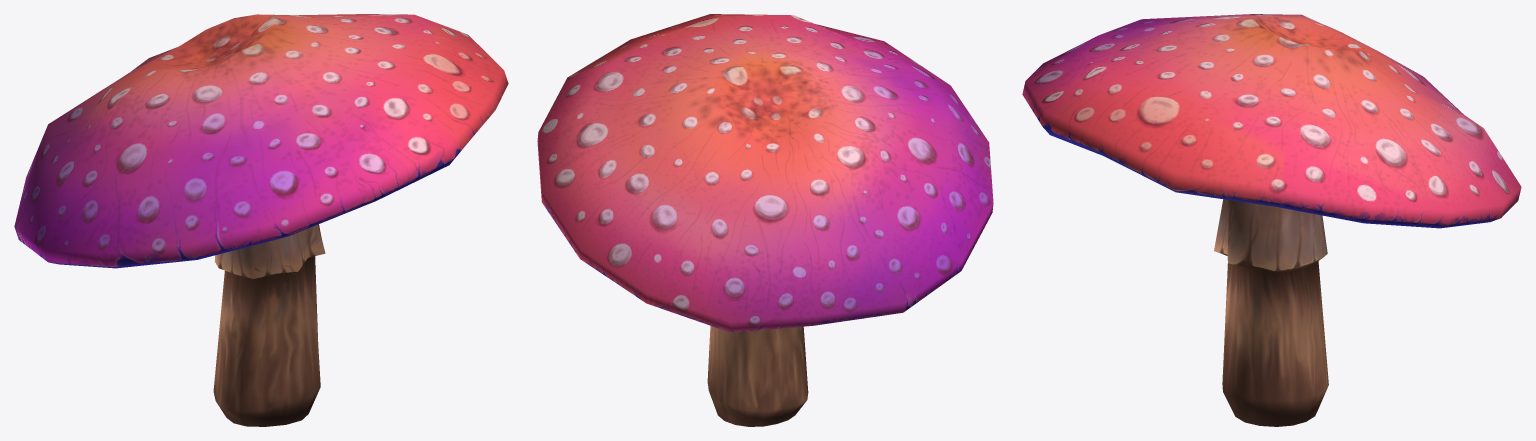
File: firefly.glb
3 renders of one model, left to right at view 1: azimuth 30°, elevation 25°; view 2: azimuth 150°, elevation 25°; view 3: azimuth 270°, elevation 25°, orthographic. The views are drawn at different scales.
Visible parts, largest first — view 1: Circle_0; view 2: Circle_0; view 3: Circle_0.
Boxes of the visible parts, x1,y1,x2,y2 form: Circle_0: (14,14,508,426); Circle_0: (537,14,993,426); Circle_0: (1022,14,1521,426).
Size of the model in its own units: 8.21 by 6.95 by 8.24.
Materials: 1 (1 with a texture image).
